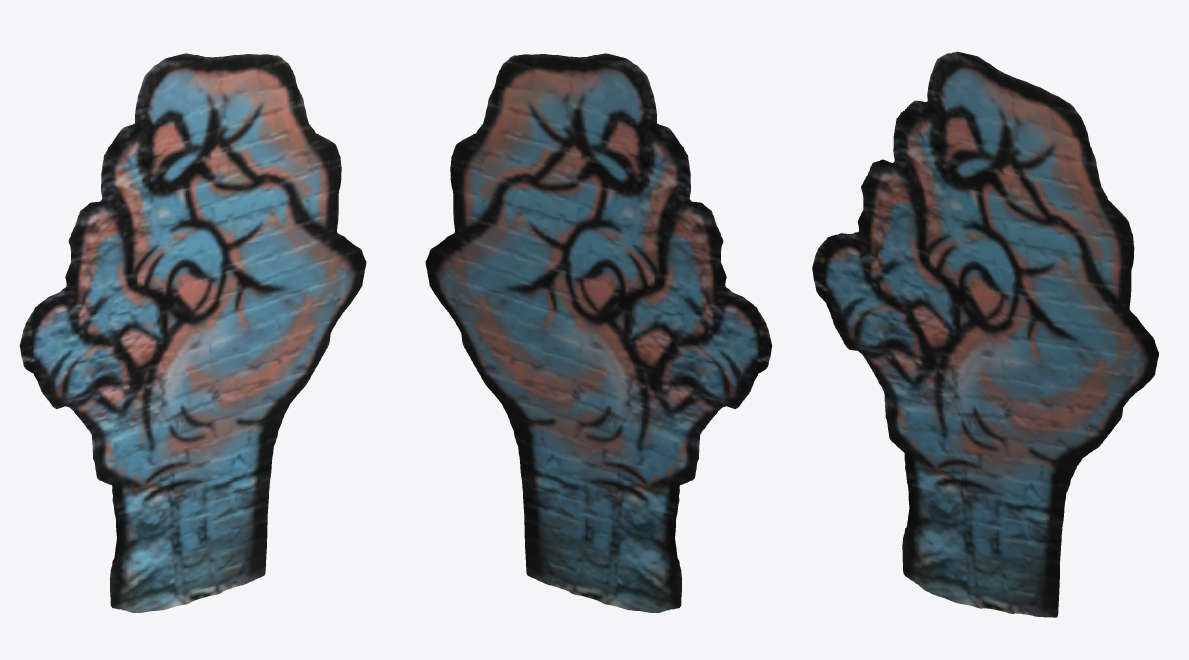
The model's file is blue_hand_graffiti.fbx.
3 renders of one model, left to right at view 1: azimuth 30°, elevation 25°; view 2: azimuth 150°, elevation 25°; view 3: azimuth 330°, elevation 25°, orthographic.
Parts seen in each view (by area): view 1: blue_hand_graffiti; view 2: blue_hand_graffiti; view 3: blue_hand_graffiti.
Boxes of the visible parts, x1=… form: blue_hand_graffiti: x1=19, y1=53, x2=366, y2=612; blue_hand_graffiti: x1=425, y1=53, x2=772, y2=612; blue_hand_graffiti: x1=812, y1=51, x2=1158, y2=617.
Bounding box in the file's own units: 40.59 × 60.61 × 1.72e-05.
1 material, 1 textured.
